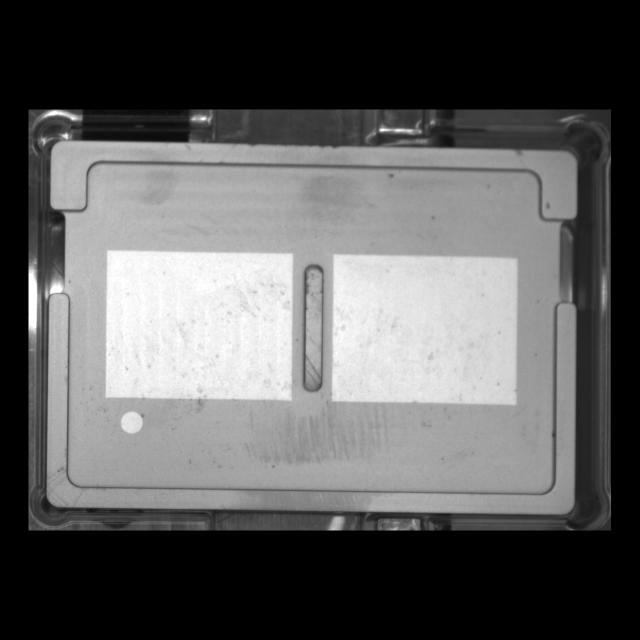door: (40, 130, 589, 230)
point: (113, 403, 151, 442)
